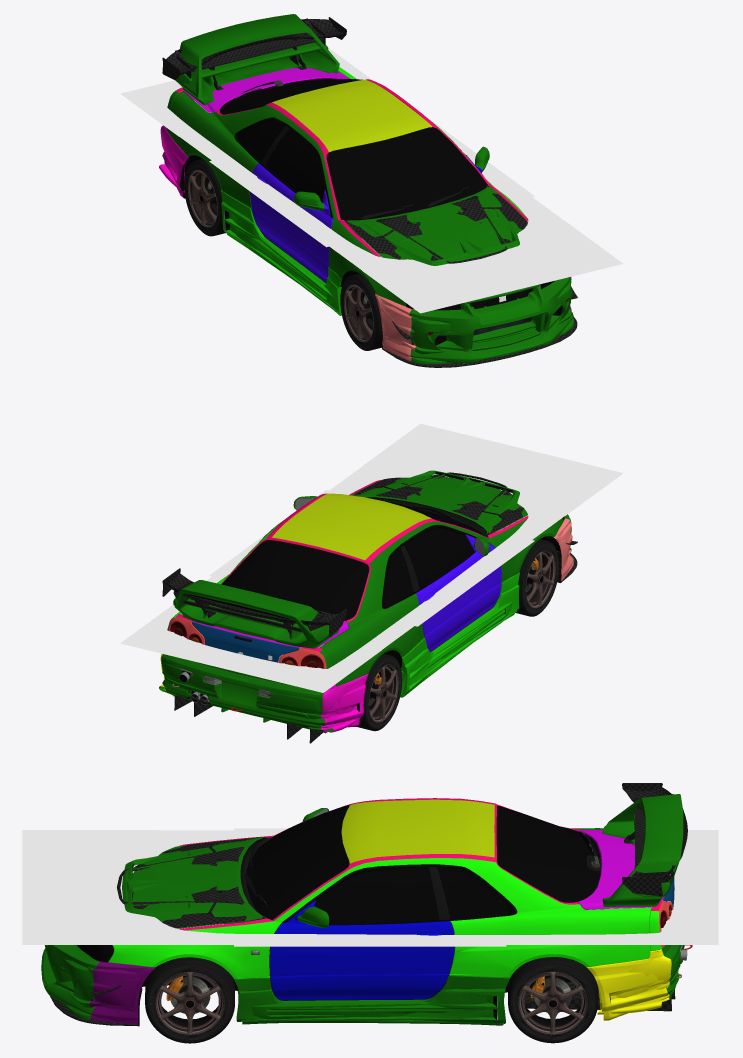
Rendered from skyline_34.fbx.
3 views of the same model, one above another, from view 1: azimuth 30°, elevation 25°; view 2: azimuth 150°, elevation 25°; view 3: azimuth 270°, elevation 25° (orthographic). The views are drawn at different scales.
Visible parts, largest first — view 1: nis_skylinegtrvspecii_02_body_body_, neon (×3), shadow, nis_skylinegtrvspecii_02_glassF_window_, nis_skylinegtrvspecii_02_bumperFd_body_, nis_skylinegtrvspecii_02_wingd_body_2_, nis_skylinegtrvspecii_02_hoodb_body_, nis_skylinegtrvspecii_02_bumperFc_body_, nis_skylinegtrvspecii_02_hoode_carbon_fiber_, nis_skylinegtrvspecii_02_glassRF_window_, nis_skylinegtrvspecii_02_body_black_glass_, nis_skylinegtrvspecii_02_wheel_tire_ (×2) (+20 smaller); view 2: neon (×3), nis_skylinegtrvspecii_02_body_body_, shadow, nis_skylinegtrvspecii_02_glassR_window_, nis_skylinegtrvspecii_02_bumperRd_body_, nis_skylinegtrvspecii_02_wingd_body_2_, nis_skylinegtrvspecii_02_glassRF_window_, nis_skylinegtrvspecii_02_wheel_tire_ (×2), nis_skylinegtrvspecii_02_hoodb_body_, nis_skylinegtrvspecii_02_trunk_body_, nis_skylinegtrvspecii_02_wheel_rim_ (×2), nis_skylinegtrvspecii_02_hoode_carbon_fiber_ (+16 smaller); view 3: nis_skylinegtrvspecii_02_body_body_, neon (×4), nis_skylinegtrvspecii_02_wheel_tire_ (×2), nis_skylinegtrvspecii_02_glassF_window_, nis_skylinegtrvspecii_02_glassR_window_, nis_skylinegtrvspecii_02_glassLF_window_, nis_skylinegtrvspecii_02_wingd_body_2_, nis_skylinegtrvspecii_02_hoodb_body_, shadow, nis_skylinegtrvspecii_02_body_black_glass_, nis_skylinegtrvspecii_02_skirtLd_body_, nis_skylinegtrvspecii_02_hoode_carbon_fiber_ (+25 smaller).
Boxes of the visible parts, bbox=[...] form: nis_skylinegtrvspecii_02_body_body_: bbox=[167, 67, 528, 306]; neon (×3): bbox=[120, 47, 623, 313]; shadow: bbox=[164, 72, 578, 290]; nis_skylinegtrvspecii_02_glassF_window_: bbox=[331, 130, 478, 214]; nis_skylinegtrvspecii_02_bumperFd_body_: bbox=[375, 277, 573, 363]; nis_skylinegtrvspecii_02_wingd_body_2_: bbox=[175, 14, 339, 105]; nis_skylinegtrvspecii_02_hoodb_body_: bbox=[347, 186, 519, 265]; nis_skylinegtrvspecii_02_bumperFc_body_: bbox=[383, 282, 574, 364]; nis_skylinegtrvspecii_02_hoode_carbon_fiber_: bbox=[345, 185, 527, 263]; nis_skylinegtrvspecii_02_glassRF_window_: bbox=[265, 129, 324, 202]; nis_skylinegtrvspecii_02_body_black_glass_: bbox=[221, 78, 486, 220]; nis_skylinegtrvspecii_02_wheel_tire_ (×2): bbox=[184, 159, 381, 350]; neon (×3): bbox=[120, 423, 623, 692]; nis_skylinegtrvspecii_02_body_body_: bbox=[167, 480, 563, 686]; shadow: bbox=[164, 445, 578, 671]; nis_skylinegtrvspecii_02_glassR_window_: bbox=[226, 543, 364, 614]; nis_skylinegtrvspecii_02_bumperRd_body_: bbox=[162, 654, 367, 725]; nis_skylinegtrvspecii_02_wingd_body_2_: bbox=[174, 580, 339, 648]; nis_skylinegtrvspecii_02_glassRF_window_: bbox=[404, 528, 474, 588]; nis_skylinegtrvspecii_02_wheel_tire_ (×2): bbox=[356, 539, 559, 731]; nis_skylinegtrvspecii_02_hoodb_body_: bbox=[352, 470, 526, 532]; nis_skylinegtrvspecii_02_trunk_body_: bbox=[191, 620, 349, 662]; nis_skylinegtrvspecii_02_wheel_rim_ (×2): bbox=[368, 550, 555, 722]; nis_skylinegtrvspecii_02_hoode_carbon_fiber_: bbox=[354, 472, 523, 534]; nis_skylinegtrvspecii_02_body_body_: bbox=[108, 798, 673, 1000]; neon (×4): bbox=[22, 828, 718, 946]; nis_skylinegtrvspecii_02_wheel_tire_ (×2): bbox=[145, 957, 597, 1043]; nis_skylinegtrvspecii_02_glassF_window_: bbox=[255, 808, 344, 912]; nis_skylinegtrvspecii_02_glassR_window_: bbox=[502, 807, 591, 897]; nis_skylinegtrvspecii_02_glassLF_window_: bbox=[314, 867, 439, 923]; nis_skylinegtrvspecii_02_wingd_body_2_: bbox=[602, 794, 683, 906]; nis_skylinegtrvspecii_02_hoodb_body_: bbox=[124, 837, 262, 924]; shadow: bbox=[54, 830, 688, 944]; nis_skylinegtrvspecii_02_body_black_glass_: bbox=[246, 806, 598, 919]; nis_skylinegtrvspecii_02_skirtLd_body_: bbox=[236, 988, 505, 1022]; nis_skylinegtrvspecii_02_hoode_carbon_fiber_: bbox=[117, 837, 267, 928].
Size of the model in its own units: 4 by 1.38 by 5.25.
